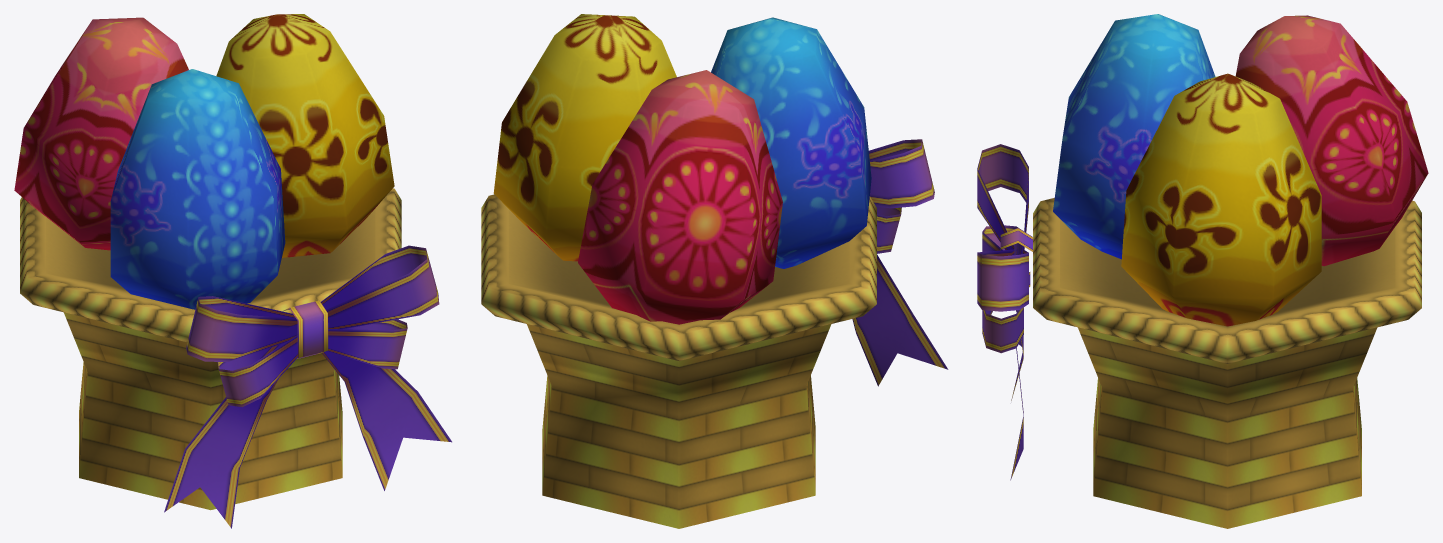
File: Egg_Basket.FBX
3 renders of one model, left to right at view 1: azimuth 30°, elevation 25°; view 2: azimuth 150°, elevation 25°; view 3: azimuth 270°, elevation 25°, orthographic. The views are drawn at different scales.
Parts seen in each view (by area): view 1: Egg_Basket; view 2: Egg_Basket; view 3: Egg_Basket.
Boxes of the visible parts, x1,y1,x2,y2 form: Egg_Basket: (14,14,451,528); Egg_Basket: (481,14,948,528); Egg_Basket: (977,14,1428,528).
Size of the model in its own units: 64.95 by 67.49 by 65.23.
